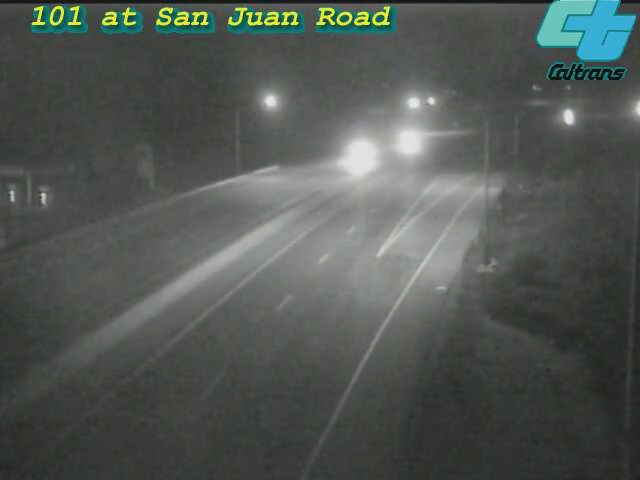vehicle: (331, 127, 381, 177), (378, 117, 428, 167), (542, 92, 592, 142)
